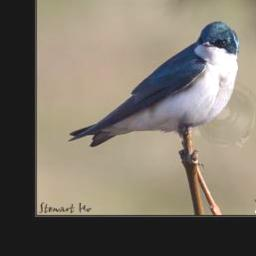Swallow: (66, 20, 240, 147)
